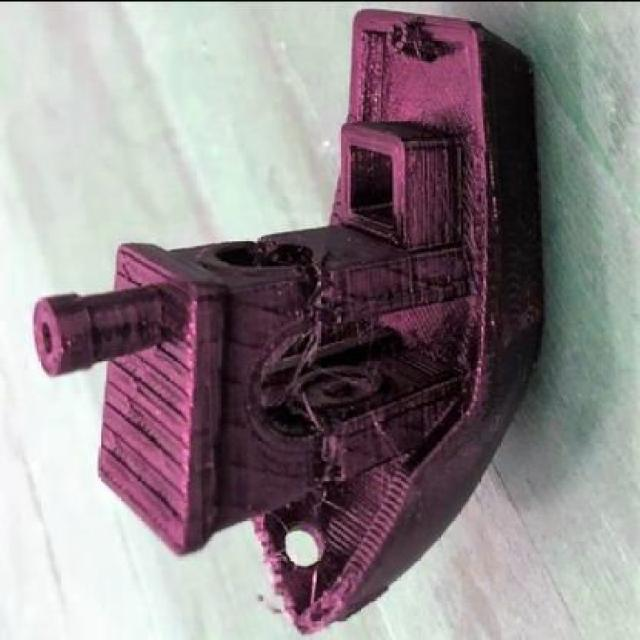Spaghetti: (278, 322, 337, 448)
